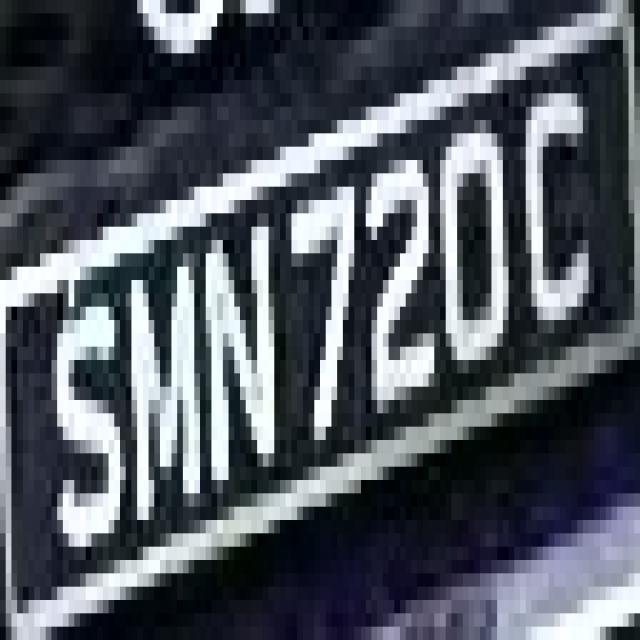0: (417, 93, 520, 387)
2: (360, 120, 434, 413)
7: (280, 133, 360, 480)
C: (520, 27, 606, 373)
M: (103, 240, 206, 520)
N: (200, 160, 291, 493)
S: (51, 267, 120, 560)
